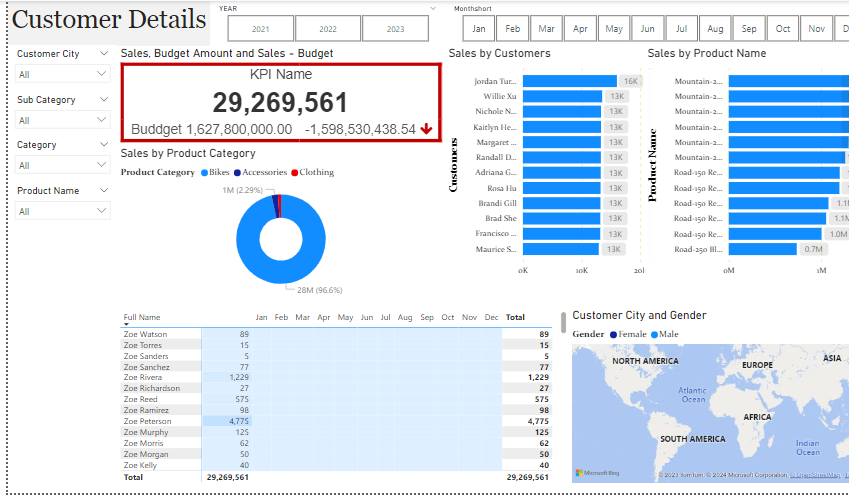

What the dashboard file says about the page in this screenshot:
{"tool":"powerbi","page":{"name":"Customer Details","canvas":[1280,720],"ordinal":1},"visuals":[{"type":"textbox","box":[0,0,1280,65.5],"z":0},{"type":"slicer","fields":{"Values":["DM_Customer.Customer City"]},"box":[0,63.8,159.6,67.2],"z":1000},{"type":"slicer","fields":{"Values":["DM_Products.Sub Category"]},"box":[0,131,159.6,67.2],"z":2000},{"type":"slicer","fields":{"Values":["DM_Products.Product Category"]},"box":[0,198.2,159.6,67.2],"z":3000},{"type":"slicer","fields":{"Values":["DM_Products.Product Name"]},"box":[0,265.4,159.6,67.2],"z":4000},{"type":"slicer","fields":{"Values":["DM_Calendar.YEAR"]},"box":[295.6,0,343.9,65.9],"z":5000},{"type":"slicer","fields":{"Values":["DM_Calendar.Monthshort"]},"box":[639.5,0,641,65.9],"z":6000},{"type":"BBED0A4D4D8D44CE93CF2DAFADEE466C","fields":{"actual":["FACT_InternetSales.Sales"],"target1":["FACT_Budgets.Budget Amount"],"target2":["Key Measurement.Sales - Budget"]},"box":[160,66.2,480,146.2],"z":7000},{"type":"donutChart","fields":{"Category":["DM_Products.Product Category"],"Y":["Key Measurement.Sales"]},"box":[160,212.5,480,225],"z":8000},{"type":"barChart","title":"Sales by Customers","fields":{"Y":["Key Measurement.Sales"],"Category":["DM_Customer.Full Name"]},"box":[640,66.2,310,343.8],"z":9000},{"type":"barChart","fields":{"Y":["Key Measurement.Sales"],"Category":["DM_Products.Product Name"]},"box":[930.7,65.9,348.3,343.9],"z":10000},{"type":"pivotTable","fields":{"Rows":["DM_Customer.Full Name"],"Values":["Key Measurement.Sales"],"Columns":["DM_Calendar.Monthshort"]},"box":[159.5,449.3,662.9,260.5],"z":11000},{"type":"filledMap","fields":{"Category":["DM_Customer.Customer City"],"Series":["DM_Customer.Gender"]},"box":[821.4,449.3,458.6,260.9],"z":11001}]}

Visuals, with their boxes on the page's 1280x720 design canvas (x1, y1, x2, y2). These are canvas units, not pixel positions in the 849x499 screenshot, which may show the page scaled, cropped or inside an application window:
textbox: locate(0, 0, 1280, 66)
slicer - DM_Customer.Customer City: locate(0, 64, 160, 131)
slicer - DM_Products.Sub Category: locate(0, 131, 160, 198)
slicer - DM_Products.Product Category: locate(0, 198, 160, 265)
slicer - DM_Products.Product Name: locate(0, 265, 160, 333)
slicer - DM_Calendar.YEAR: locate(296, 0, 640, 66)
slicer - DM_Calendar.Monthshort: locate(640, 0, 1280, 66)
BBED0A4D4D8D44CE93CF2DAFADEE466C - FACT_InternetSales.Sales x FACT_Budgets.Budget Amount: locate(160, 66, 640, 212)
donutChart - DM_Products.Product Category x Key Measurement.Sales: locate(160, 212, 640, 438)
"Sales by Customers" barChart: locate(640, 66, 950, 410)
barChart - Key Measurement.Sales x DM_Products.Product Name: locate(931, 66, 1279, 410)
pivotTable - DM_Customer.Full Name x Key Measurement.Sales: locate(160, 449, 822, 710)
filledMap - DM_Customer.Customer City x DM_Customer.Gender: locate(821, 449, 1280, 710)
